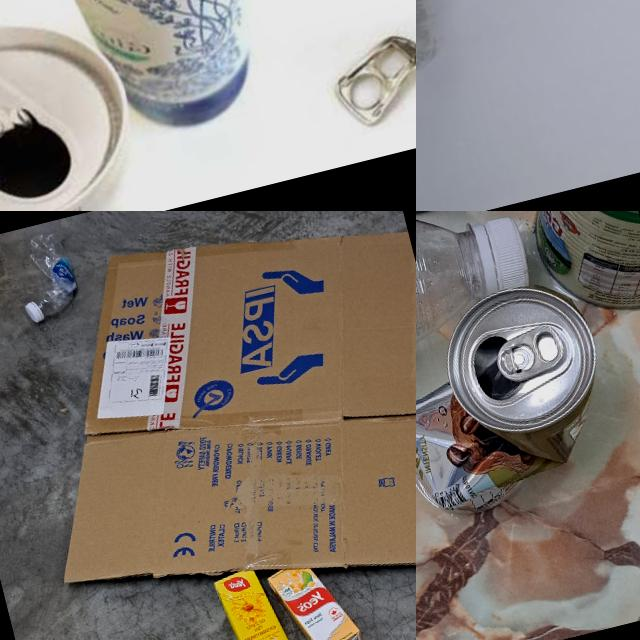aba de lata: (491, 323, 568, 385)
caixinha: (264, 551, 364, 640), (212, 563, 292, 640)
garrafa plástica: (5, 234, 81, 324)
lata: (416, 272, 627, 524), (0, 0, 337, 157), (0, 0, 152, 211), (490, 211, 640, 328)
papelão: (0, 211, 416, 640)
tampa plástica: (470, 214, 534, 298), (20, 296, 46, 322)
